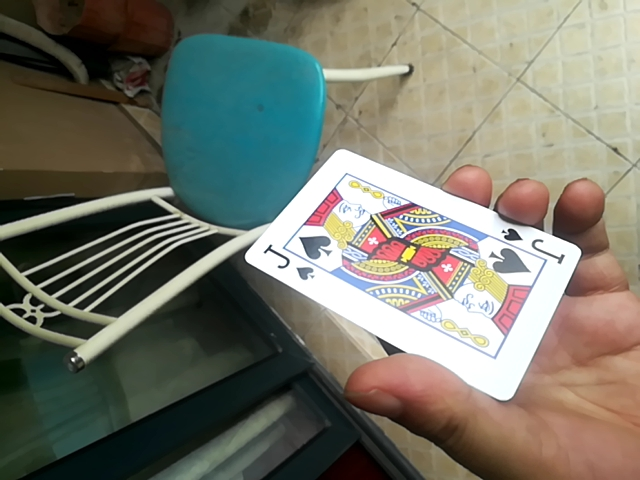ht j: (233, 152, 577, 407)
